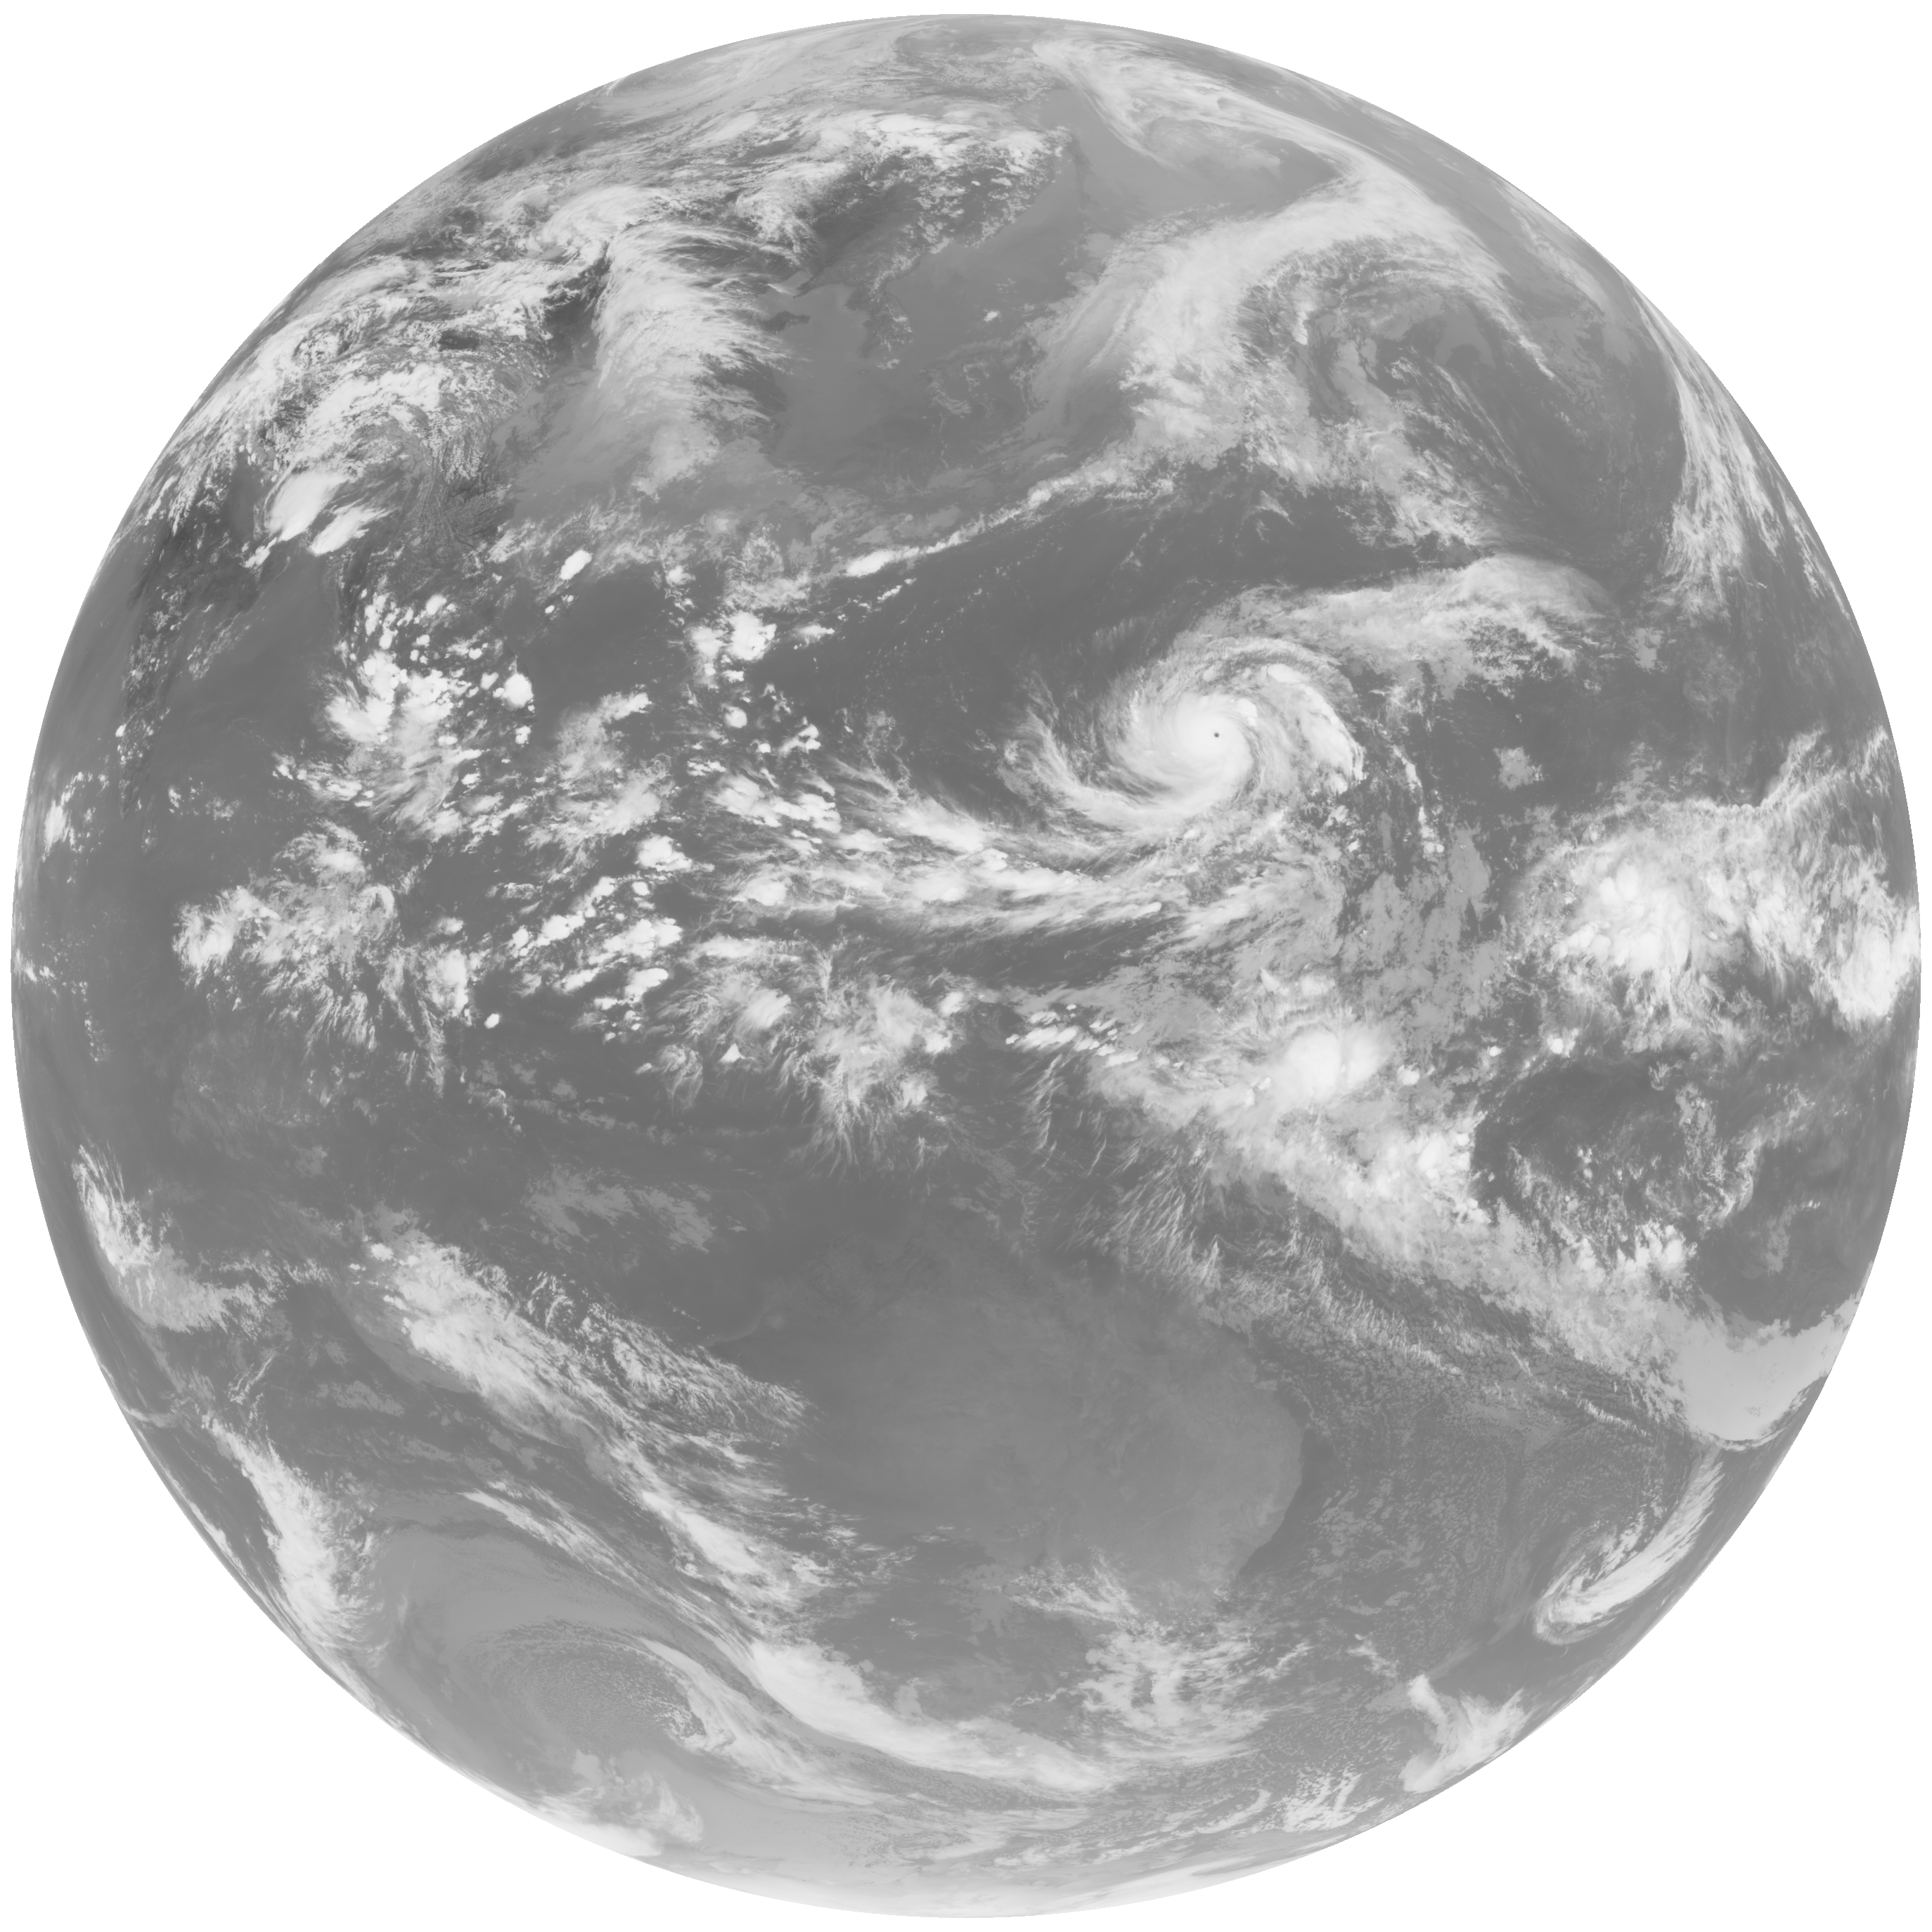typhoon: (980, 564, 1511, 916)
